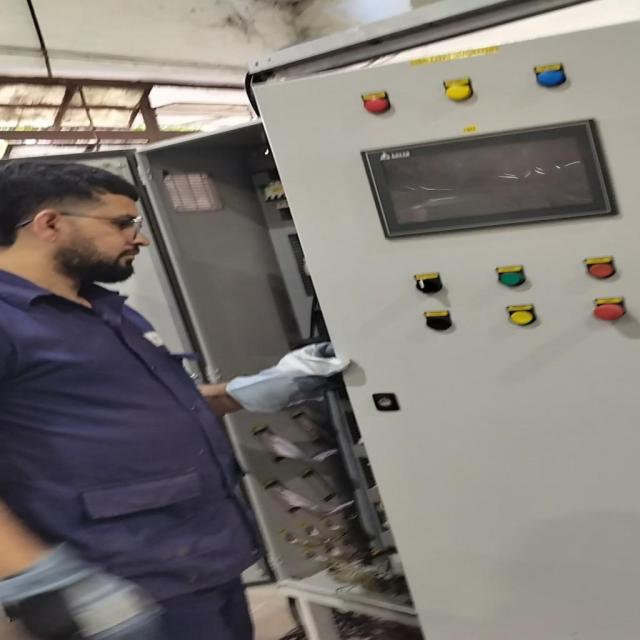Gloves-Detection: (229, 336, 355, 418), (0, 544, 117, 617)
